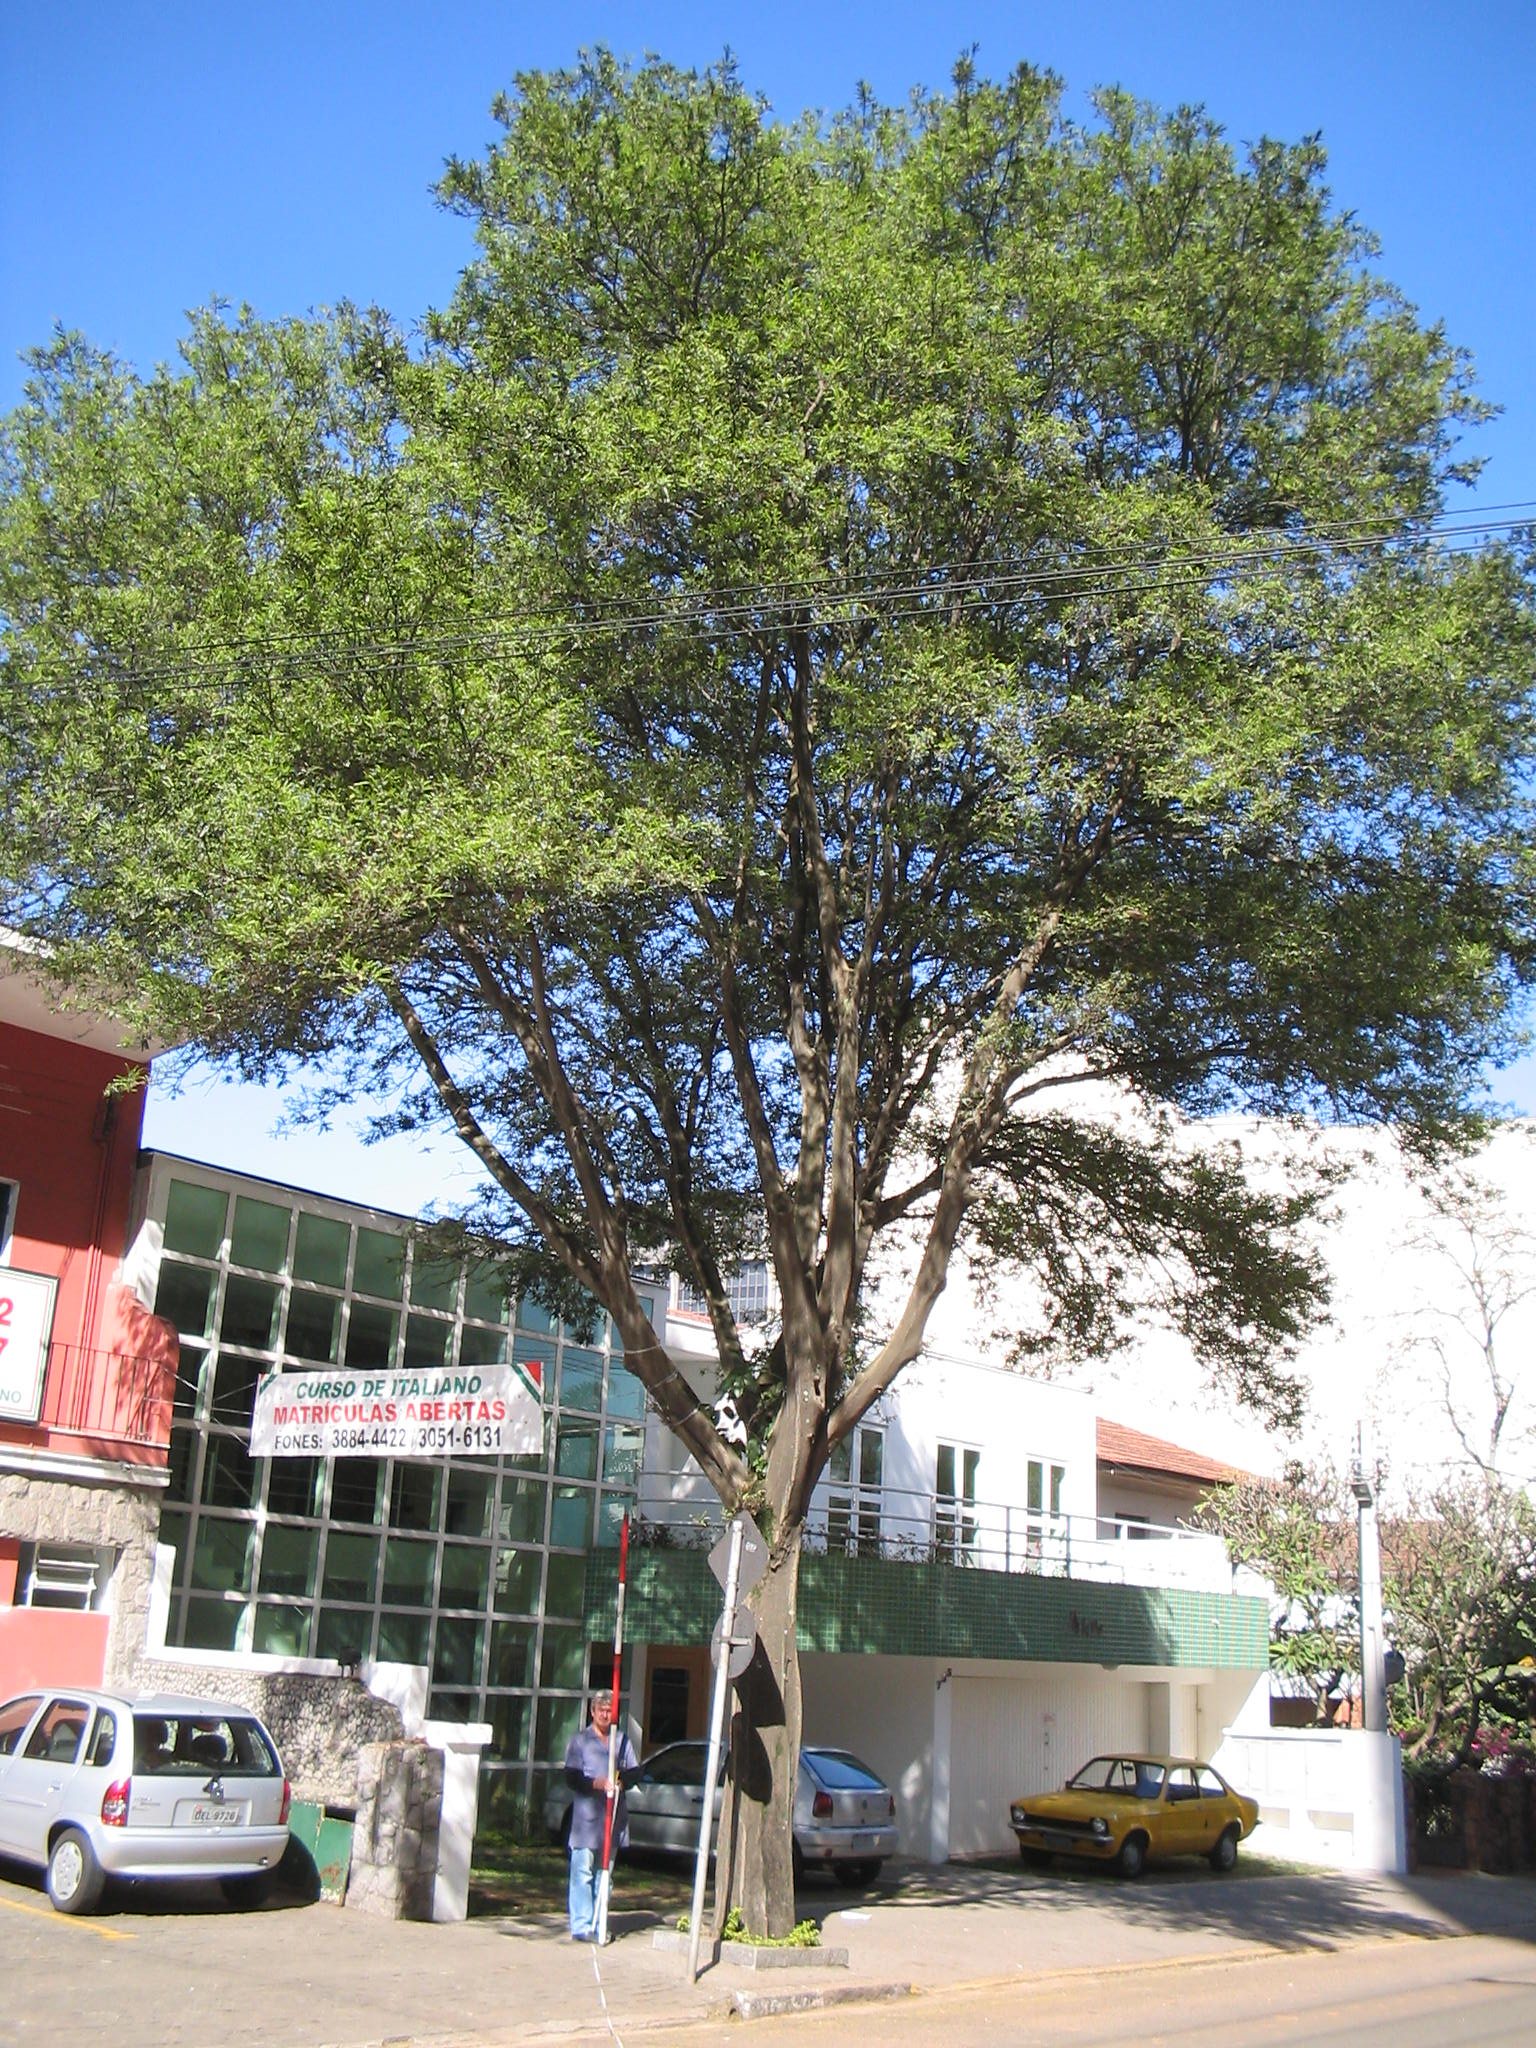crown: (2, 24, 1533, 1303)
stem: (674, 1487, 847, 1942)
stick: (586, 1513, 660, 1937)
tree: (2, 18, 1536, 1951)
